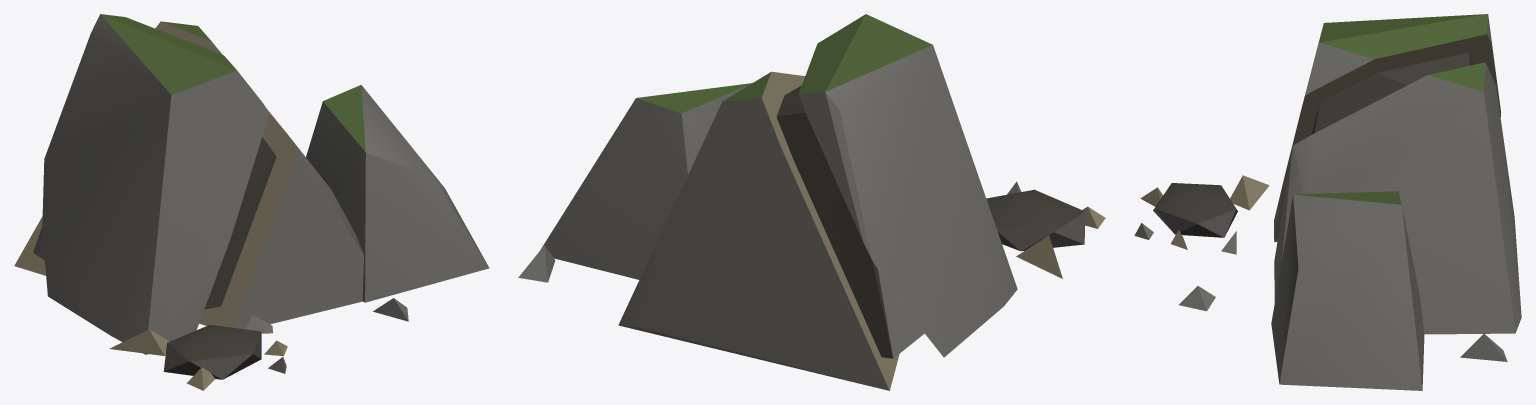
The model's file is MiningBoulderBDug.fbx.
3 views of the same model, side by side, from view 1: azimuth 30°, elevation 25°; view 2: azimuth 150°, elevation 25°; view 3: azimuth 270°, elevation 25° (orthographic). The views are drawn at different scales.
Visible parts, largest first — view 1: MiningBoulderBDug; view 2: MiningBoulderBDug; view 3: MiningBoulderBDug.
Part boxes in pixels (box(x1,y1,x2,y2)): MiningBoulderBDug: box(14, 14, 489, 390); MiningBoulderBDug: box(518, 14, 1105, 390); MiningBoulderBDug: box(1134, 14, 1521, 390).
Bounding box in the file's own units: 1.46 × 0.8557 × 1.27.
